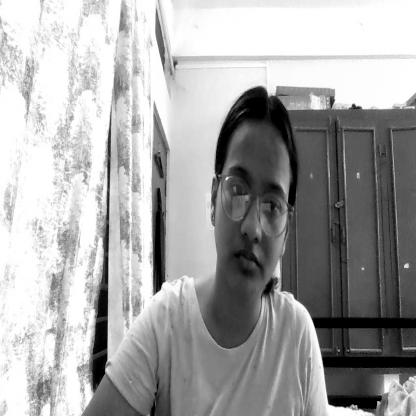Normal: (211, 82, 294, 295)
